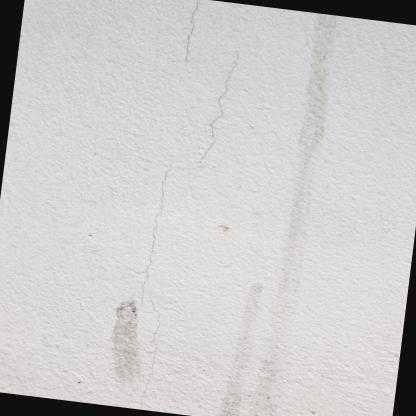crack: (200, 55, 242, 159), (140, 161, 175, 274), (137, 305, 163, 407), (182, 0, 200, 56)
